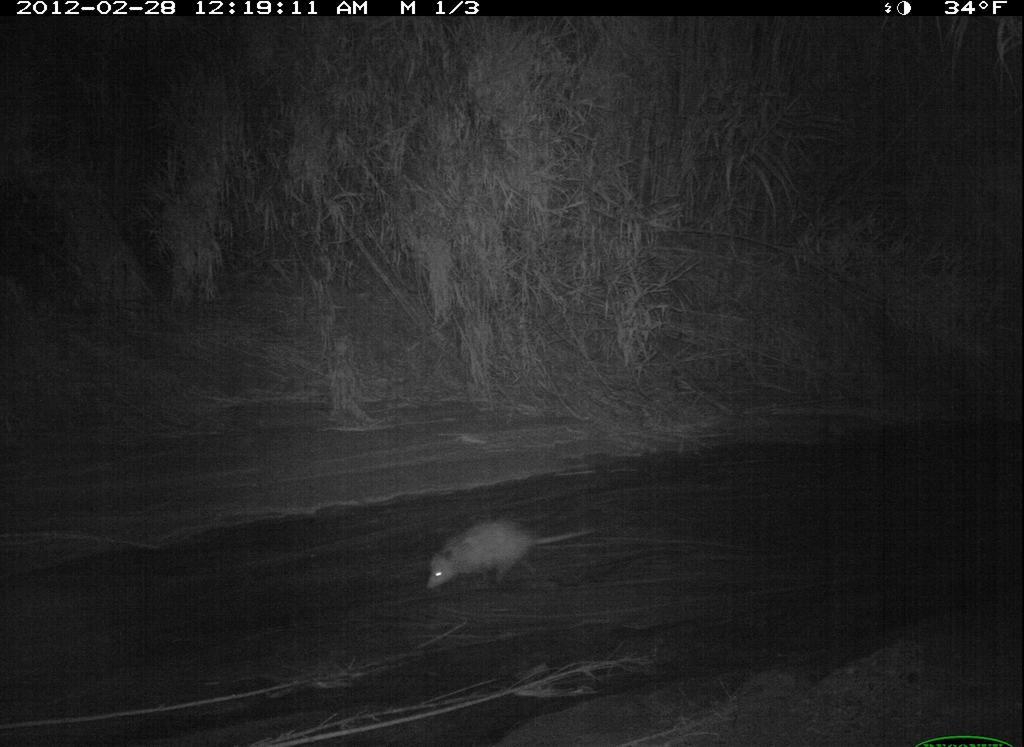opossum: (406, 496, 602, 602)
